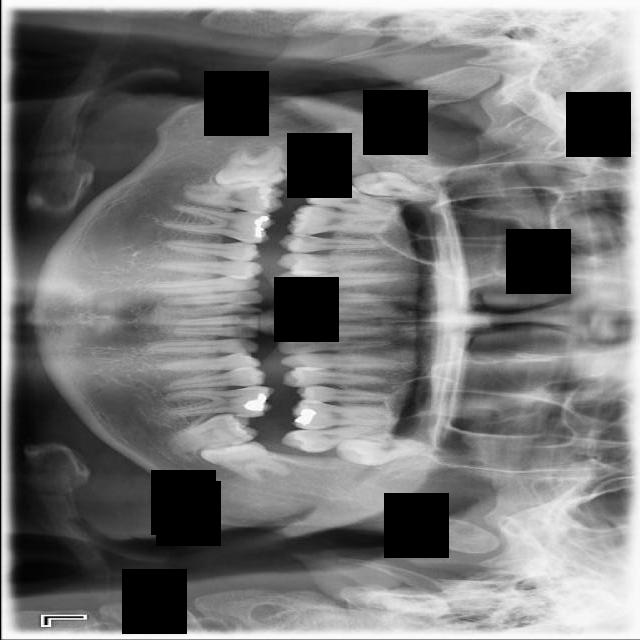3M ESPE Implant: (349, 165, 441, 206)
52: (225, 205, 276, 248), (289, 398, 342, 431), (229, 385, 272, 418)
73: (64, 580, 78, 586)
BioHorizons Implant: (280, 422, 394, 455)
BioLife Implant: (334, 438, 425, 467)
Biomet 3i Implant: (196, 421, 295, 494)
Blue Sky Bio Implant: (162, 408, 261, 457)
Caries: (303, 178, 405, 217)
Implant: (182, 182, 284, 215)
Keystone Dental Implant: (212, 144, 285, 193)
